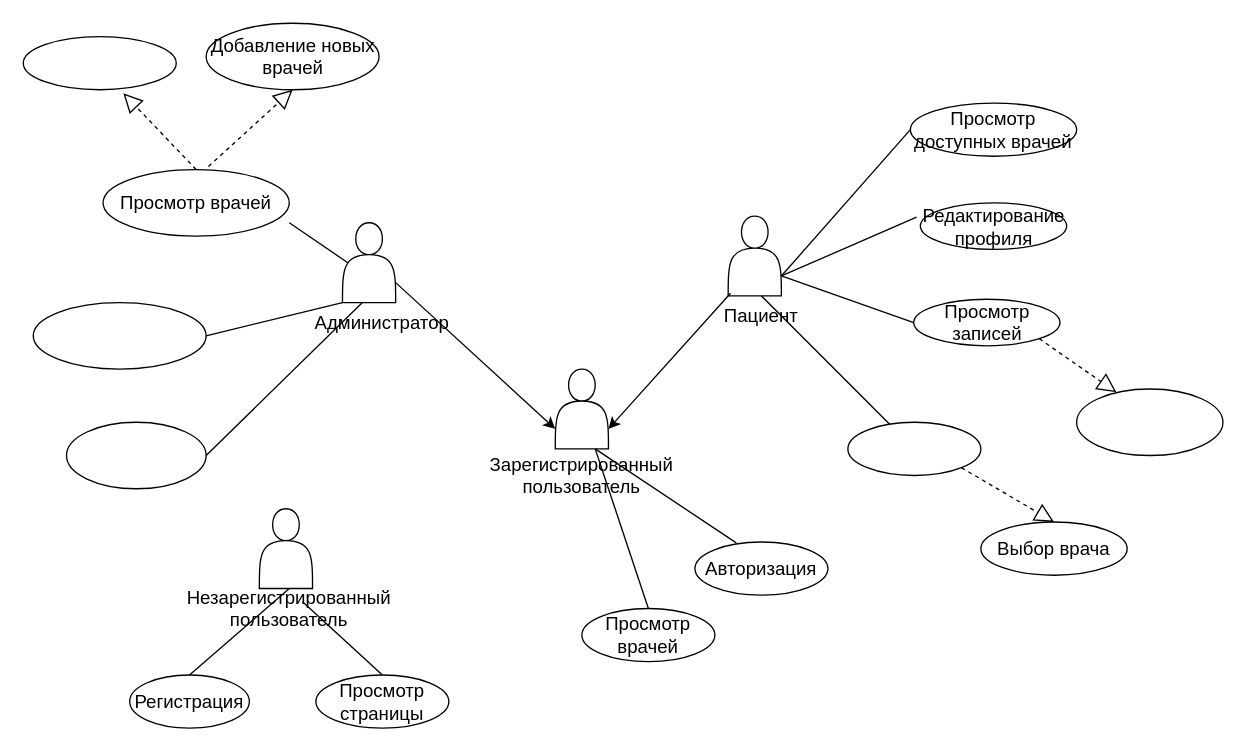
The diagram is 1246 pixels wide and 751 high, and some of its shapes have lost their labels. Each missing label, with the centre of its shape:
Запись на прием: (914,448)
Изменение статуса записи: (135,455)
Удаление врачей: (99,62)
удаление записи на прием: (1149,422)
Управление расписанием врачей: (119,335)
